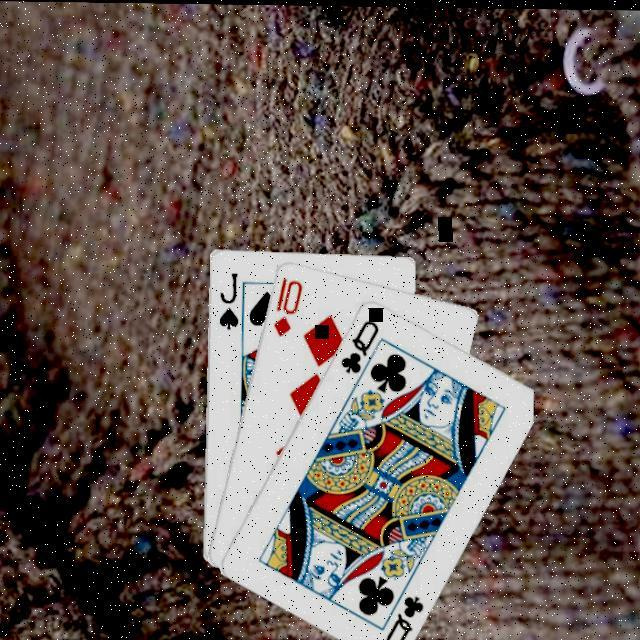10D: (269, 274, 305, 338)
JS: (214, 270, 240, 332)
QC: (336, 316, 381, 376), (380, 590, 426, 640)
